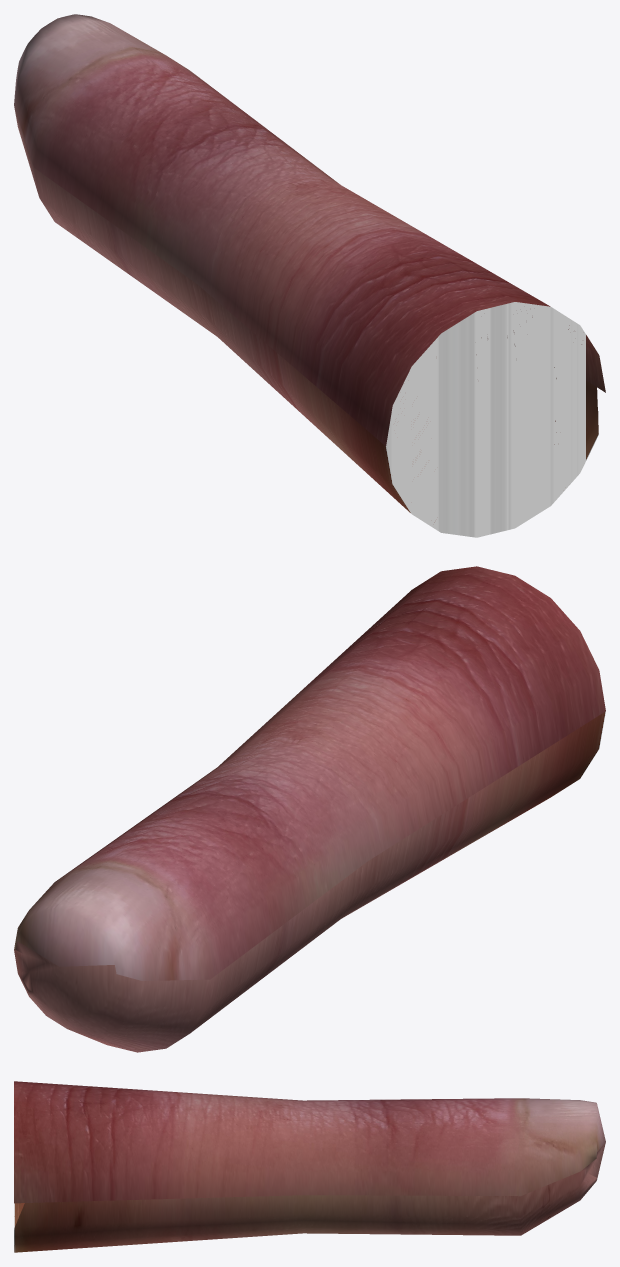
Rendered from Finger.FBX.
3 renders of one model, top to bottom at view 1: azimuth 30°, elevation 25°; view 2: azimuth 150°, elevation 25°; view 3: azimuth 270°, elevation 25°, orthographic. The views are drawn at different scales.
Visible parts, largest first — view 1: Cylinder001; view 2: Cylinder001; view 3: Cylinder001.
Part boxes in pixels (x1,y1,x2,y2): Cylinder001: (14,14,605,537); Cylinder001: (14,566,605,1052); Cylinder001: (14,1081,605,1252).
Size of the model in its own units: 29.32 by 28.88 by 101.
Materials: 1 (1 with a texture image).
